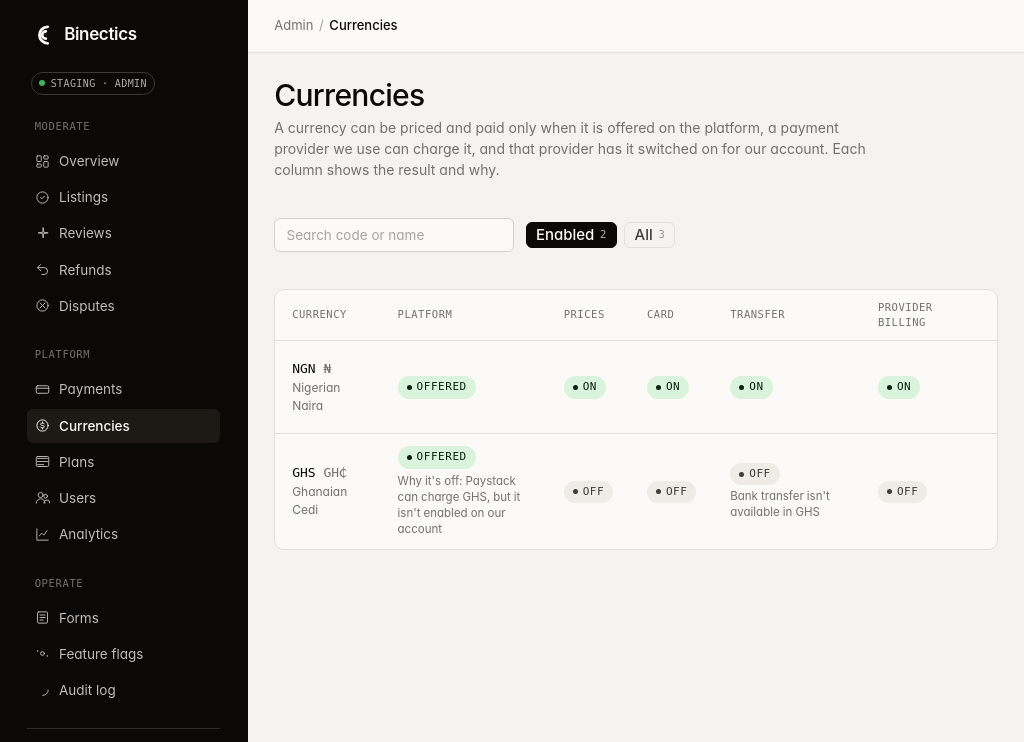
it: admin currencies page › lists enabled currencies by default and all of them on request, with search
The width and height of the screenshot is (1024, 742).
Click the button "All 3" at (650, 235), box [624,222,675,248]
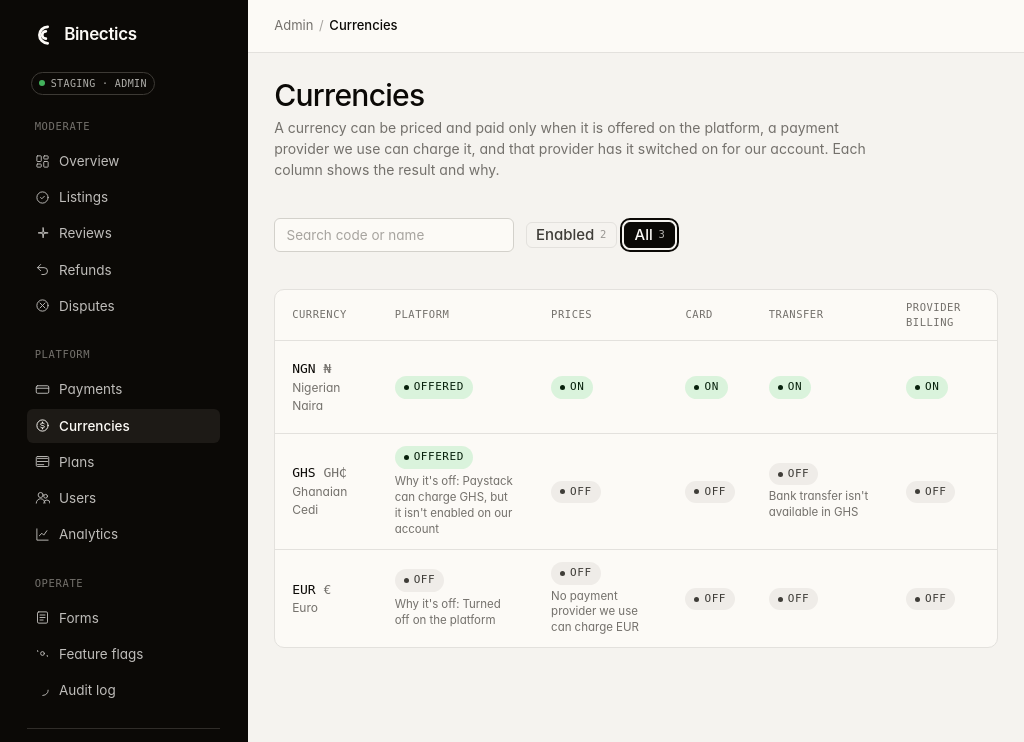
Expected: the text "Euro" is shown, [292,600,318,615]
Type "ced" into the search field named "Search currencies" at (394, 235), box [274,218,514,252]
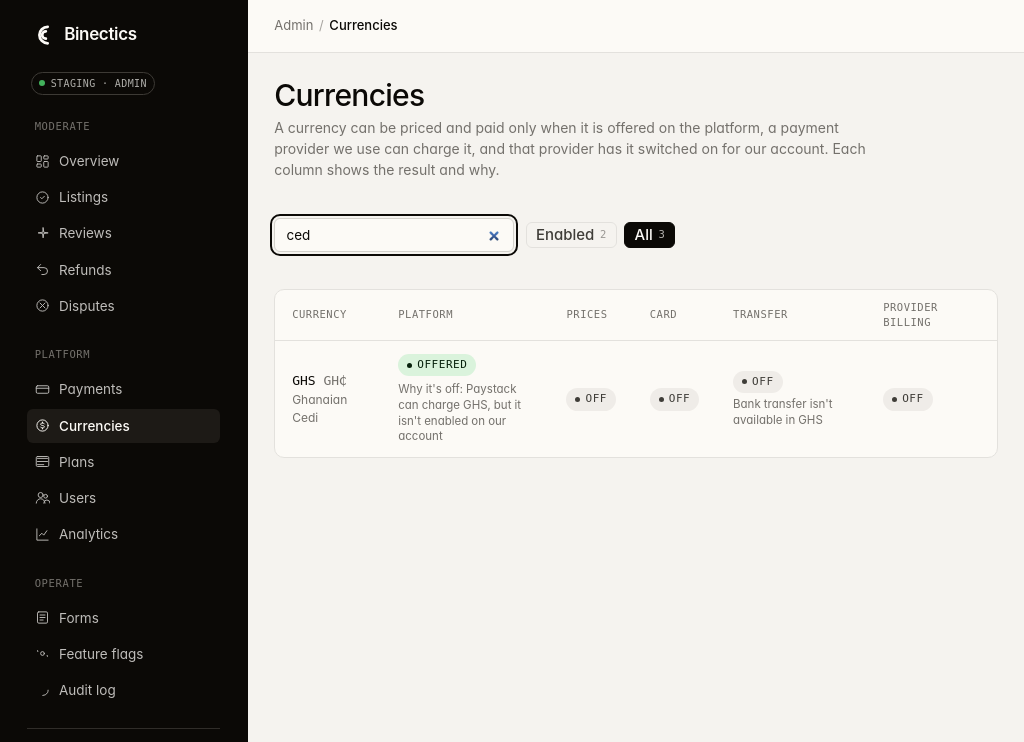
Expected: the text "Ghanaian Cedi" is shown, [292,392,347,425]
Expected: the text "Euro" is not shown
